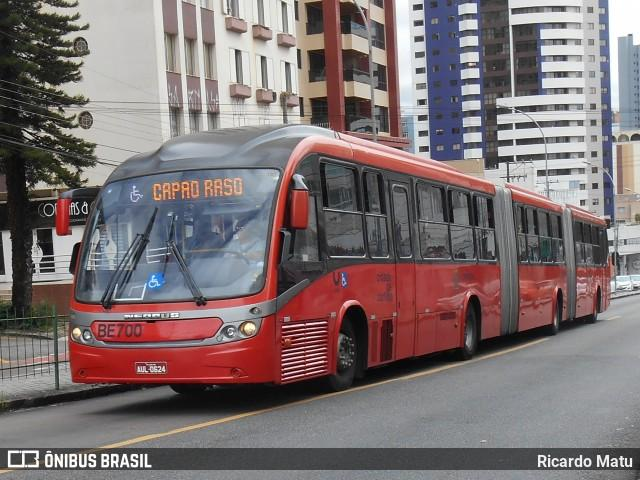CAPAO RASO: (149, 174, 244, 203)
